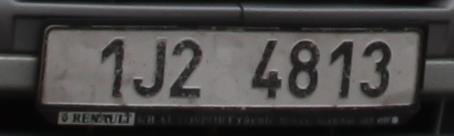1: (328, 37, 353, 100), (100, 37, 125, 99)
2: (170, 37, 205, 101)
3: (358, 37, 393, 101)
4: (249, 37, 285, 100)
8: (287, 38, 321, 99)
J: (130, 37, 168, 100)
